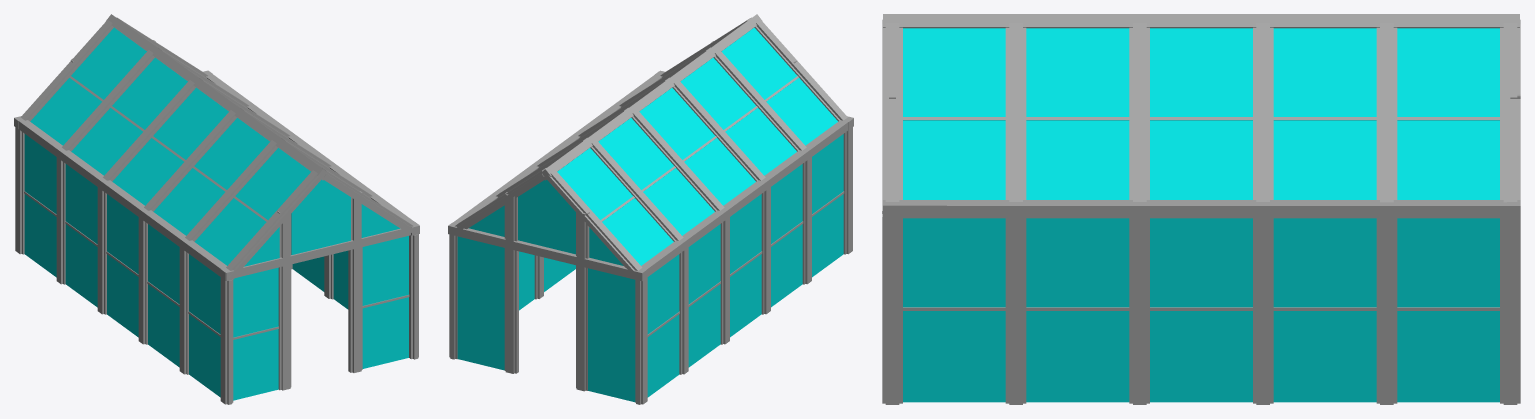
The model's file is Greenhouse Jan12 export1.fbx.
3 renders of one model, left to right at view 1: azimuth 30°, elevation 25°; view 2: azimuth 150°, elevation 25°; view 3: azimuth 270°, elevation 25°, orthographic. The views are drawn at different scales.
Parts seen in each view (by area): view 1: Poly_Together, WallStructure6; view 2: Poly_Together, WallStructure6; view 3: Poly_Together, WallStructure6.
Part boxes in pixels (<box>): Poly_Together: <box>24,27,408,400</box>; WallStructure6: <box>14,14,419,404</box>; Poly_Together: <box>457,27,843,402</box>; WallStructure6: <box>448,14,853,404</box>; Poly_Together: <box>903,28,1499,402</box>; WallStructure6: <box>882,14,1520,404</box>.
Size of the model in its own units: 4.92 by 5.14 by 9.3.
